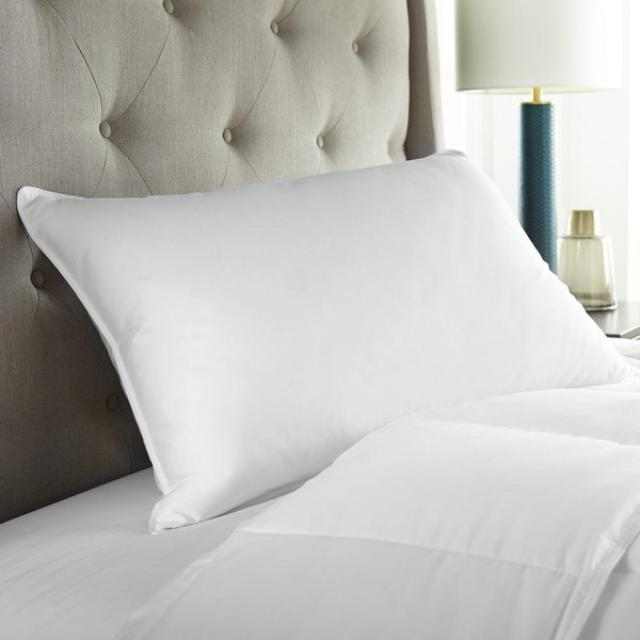lamp: (456, 0, 627, 266)
pillow: (14, 144, 635, 537)
